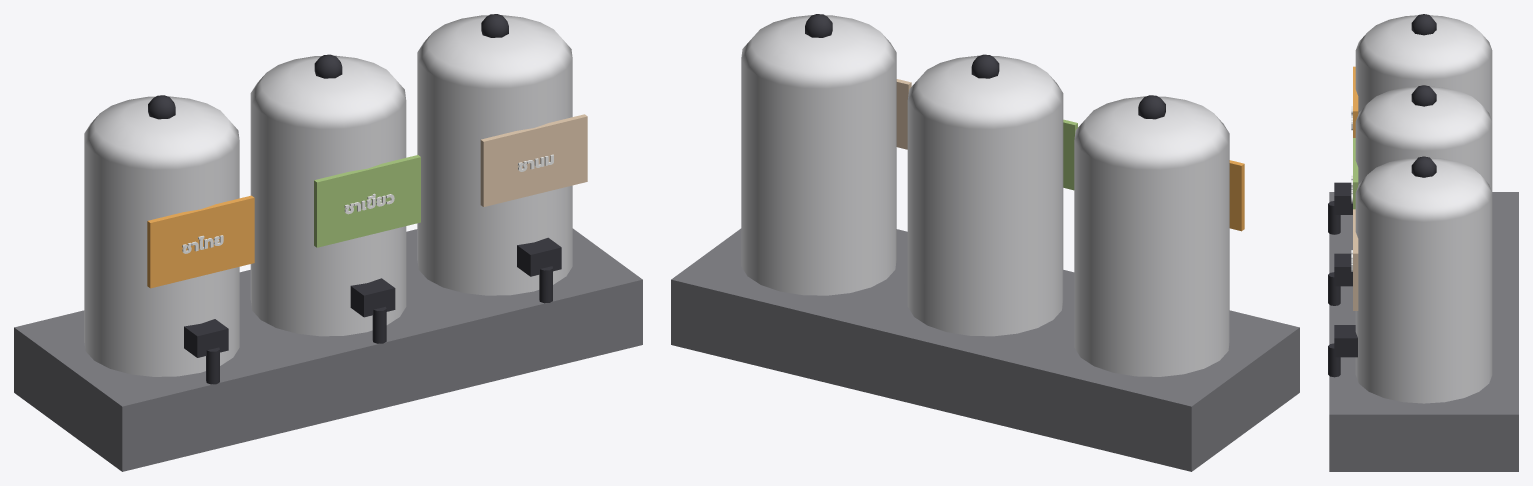
File: SM_TeaUrnSet.fbx
3 views of the same model, side by side, from view 1: azimuth 30°, elevation 25°; view 2: azimuth 150°, elevation 25°; view 3: azimuth 270°, elevation 25° (orthographic). The views are drawn at different scales.
Visible parts, largest first — view 1: TeaUrn_Stand, Urn_ThaiTea, Urn_Matcha, Urn_MilkTea; view 2: TeaUrn_Stand, Urn_ThaiTea, Urn_Matcha, Urn_MilkTea; view 3: Urn_MilkTea, TeaUrn_Stand, Urn_Matcha, Urn_ThaiTea.
Part boxes in pixels (x1=…): TeaUrn_Stand: x1=14, y1=228, x2=642, y2=471; Urn_ThaiTea: x1=84, y1=95, x2=254, y2=384; Urn_Matcha: x1=250, y1=54, x2=420, y2=343; Urn_MilkTea: x1=417, y1=14, x2=587, y2=303; TeaUrn_Stand: x1=671, y1=228, x2=1299, y2=471; Urn_ThaiTea: x1=1074, y1=95, x2=1244, y2=376; Urn_Matcha: x1=907, y1=54, x2=1077, y2=336; Urn_MilkTea: x1=741, y1=14, x2=911, y2=295; Urn_MilkTea: x1=1328, y1=156, x2=1492, y2=403; TeaUrn_Stand: x1=1329, y1=192, x2=1518, y2=471; Urn_Matcha: x1=1328, y1=85, x2=1492, y2=305; Urn_ThaiTea: x1=1328, y1=14, x2=1492, y2=234.
Bounding box in the file's own units: 1 × 0.575 × 0.362.
